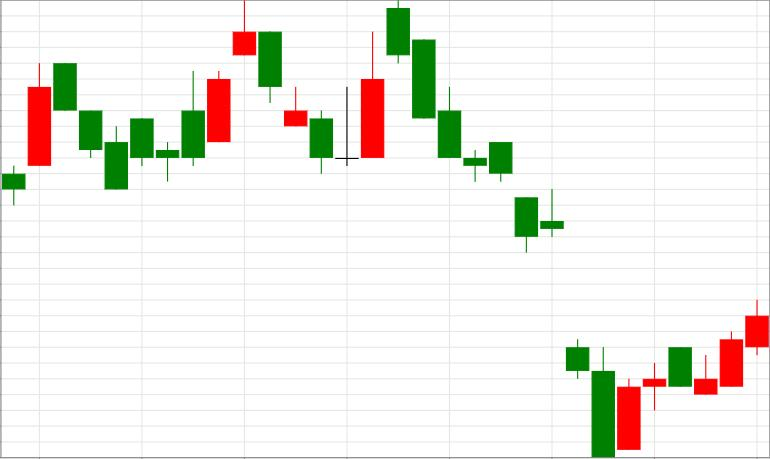morning_star_rise: (233, 1, 384, 173)
